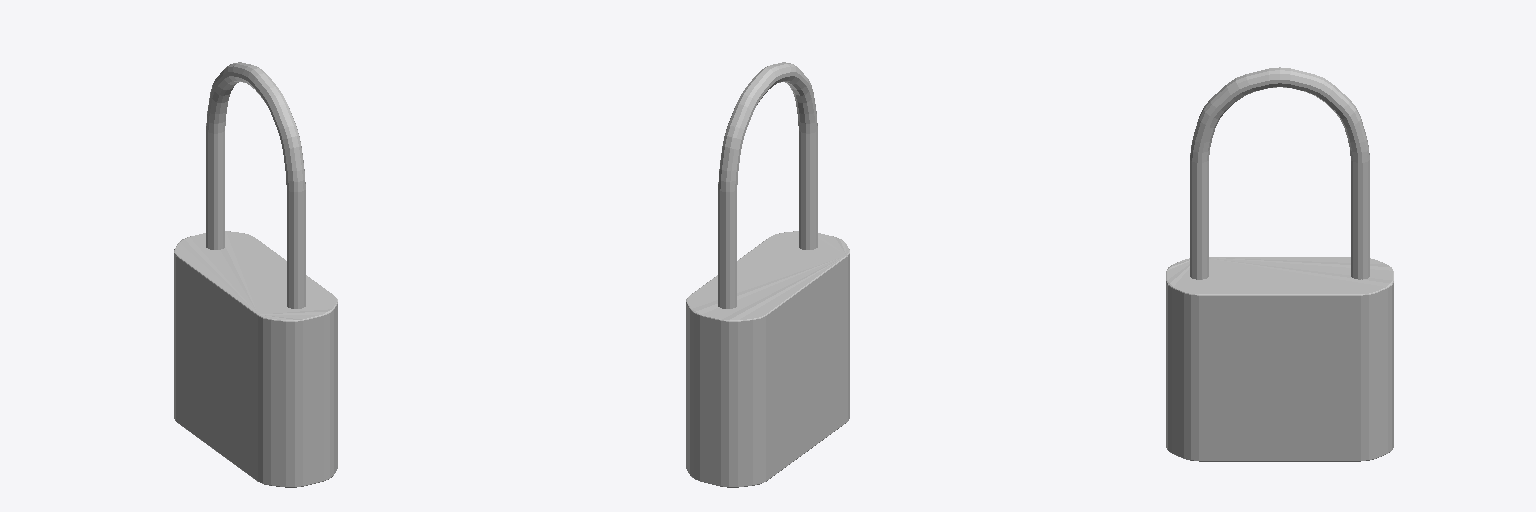
File: hor1 itembox1 lock1.obj
The picture shows the model from 3 angles: view 1: azimuth 30°, elevation 25°; view 2: azimuth 150°, elevation 25°; view 3: azimuth 270°, elevation 25°; orthographic projection.
Parts seen in each view (by area): view 1: itembox_1_lock_Torus; view 2: itembox_1_lock_Torus; view 3: itembox_1_lock_Torus.
Boxes of the visible parts, <box> form: itembox_1_lock_Torus: <box>174,62,337,487</box>; itembox_1_lock_Torus: <box>686,62,849,487</box>; itembox_1_lock_Torus: <box>1166,67,1393,461</box>.
Bounding box in the file's own units: 0.0254 × 0.1166 × 0.0643.